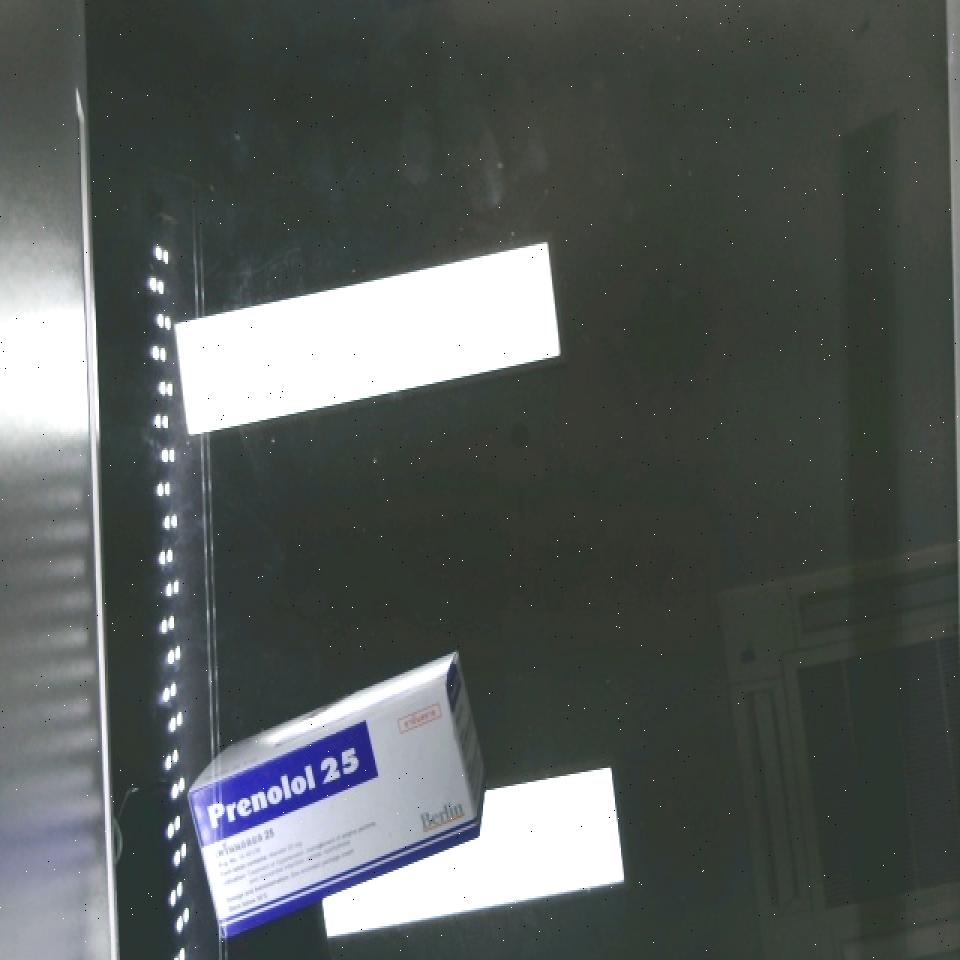medicine_box: (160, 676, 506, 941)
medicine_label_obb: (181, 715, 384, 848)
